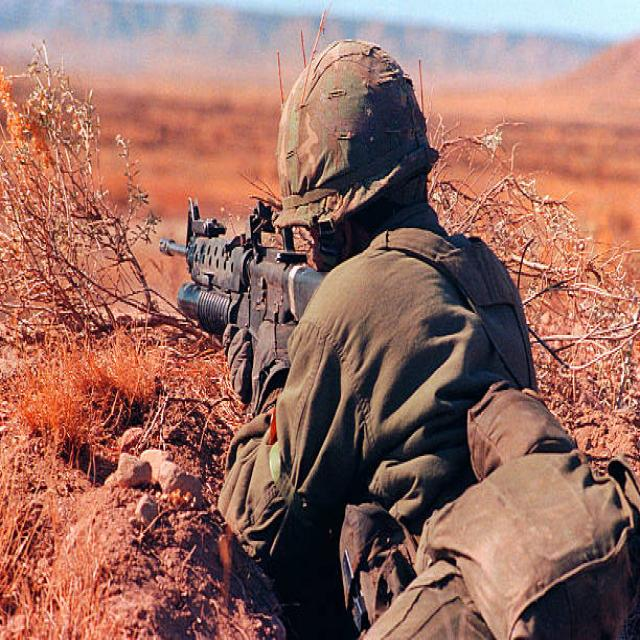soldier: (127, 2, 640, 640)
